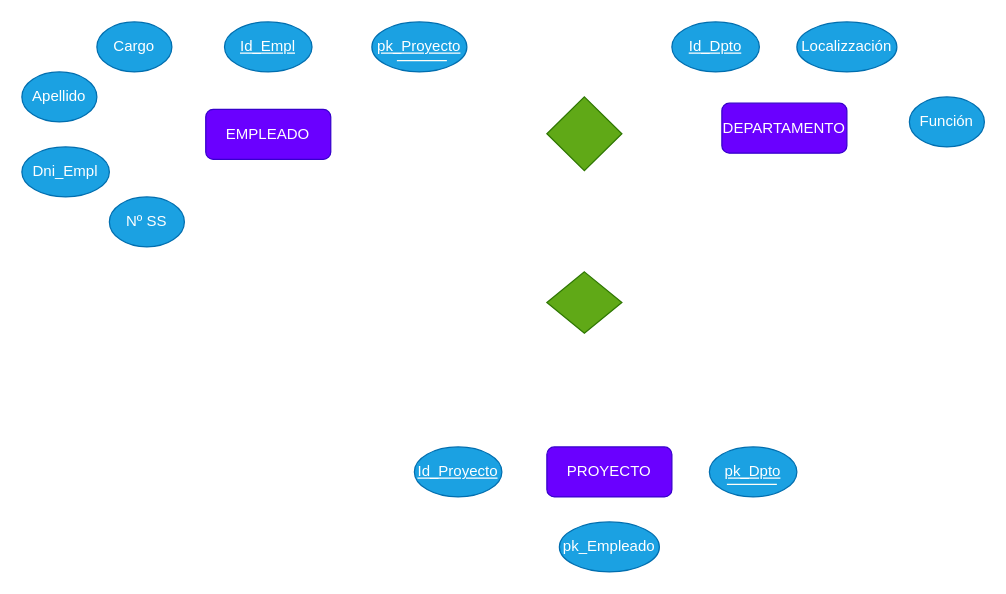
This 1006x594 diagram has some shape labels left out. The centre of each missing label's shape, as x and y in pixels:
"Realiza" belongs at (584,302).
"Trabaja_ en" belongs at (584,133).
